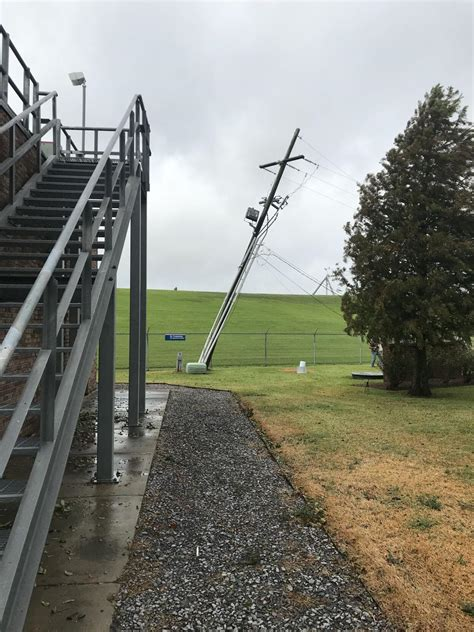pole: (192, 117, 310, 379)
